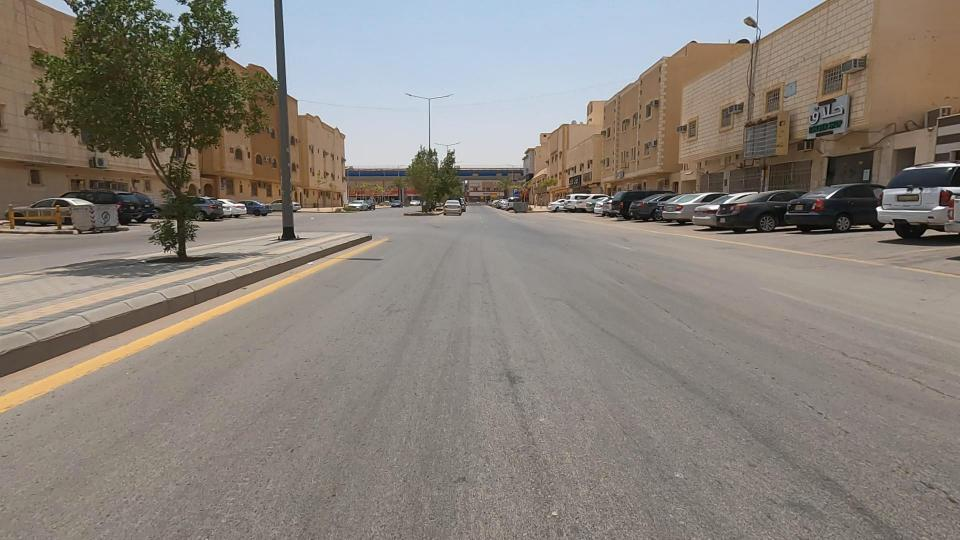BAD_BILLBOARD: (712, 90, 808, 184)
